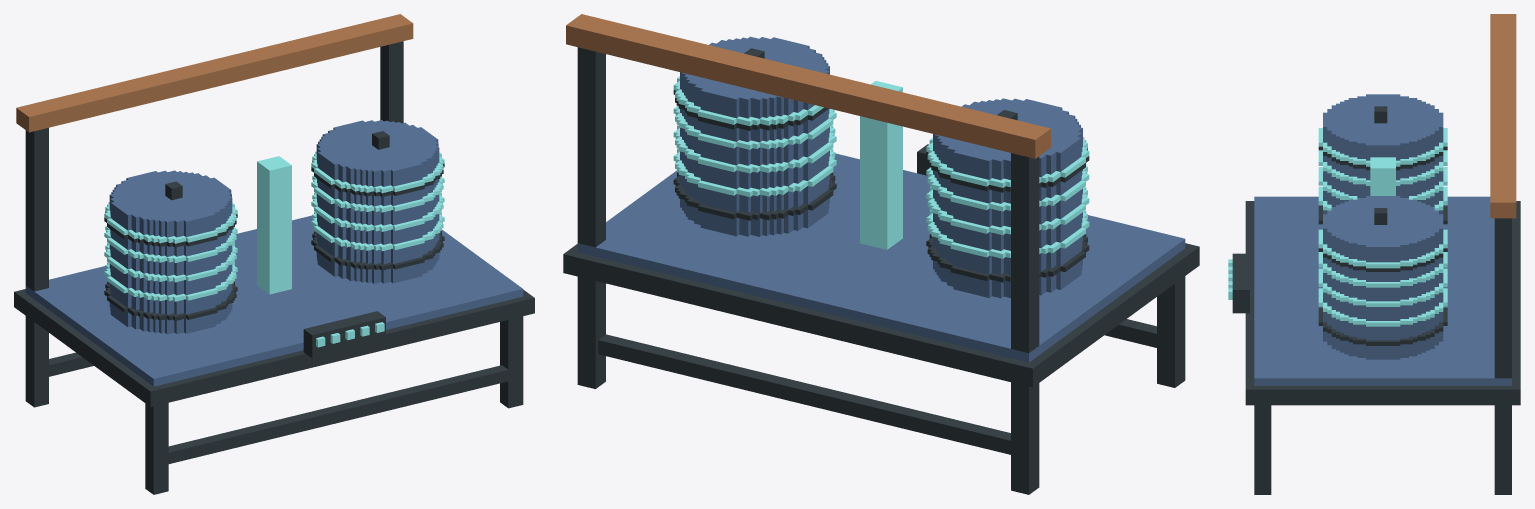
File: arcane_engineering_station_t10.glb
3 views of the same model, side by side, from view 1: azimuth 30°, elevation 25°; view 2: azimuth 150°, elevation 25°; view 3: azimuth 270°, elevation 25° (orthographic). The views are drawn at different scales.
Parts seen in each view (by area): view 1: arcane_engineering_station_t10/work_surface, arcane_engineering_station_t10/frame, arcane_engineering_station_t10/work_surface_lid_1, arcane_engineering_station_t10/work_surface_lid_0; view 2: arcane_engineering_station_t10/work_surface, arcane_engineering_station_t10/frame, arcane_engineering_station_t10/work_surface_lid_0, arcane_engineering_station_t10/work_surface_lid_1; view 3: arcane_engineering_station_t10/work_surface, arcane_engineering_station_t10/frame, arcane_engineering_station_t10/work_surface_lid_1, arcane_engineering_station_t10/work_surface_lid_0.
Boxes of the visible parts, x1=… form: arcane_engineering_station_t10/work_surface: x1=16, y1=14, x2=523, y2=386; arcane_engineering_station_t10/frame: x1=14, y1=289, x2=534, y2=494; arcane_engineering_station_t10/work_surface_lid_1: x1=316, y1=120, x2=439, y2=175; arcane_engineering_station_t10/work_surface_lid_0: x1=109, y1=170, x2=232, y2=225; arcane_engineering_station_t10/work_surface: x1=566, y1=14, x2=1185, y2=362; arcane_engineering_station_t10/frame: x1=563, y1=243, x2=1199, y2=494; arcane_engineering_station_t10/work_surface_lid_0: x1=933, y1=98, x2=1082, y2=165; arcane_engineering_station_t10/work_surface_lid_1: x1=680, y1=36, x2=829, y2=104; arcane_engineering_station_t10/work_surface: x1=1228, y1=14, x2=1516, y2=385; arcane_engineering_station_t10/frame: x1=1245, y1=201, x2=1520, y2=494; arcane_engineering_station_t10/work_surface_lid_1: x1=1323, y1=196, x2=1443, y2=250; arcane_engineering_station_t10/work_surface_lid_0: x1=1323, y1=94, x2=1443, y2=148.
Bounding box in the file's own units: 3.25 × 2.38 × 2.12.
